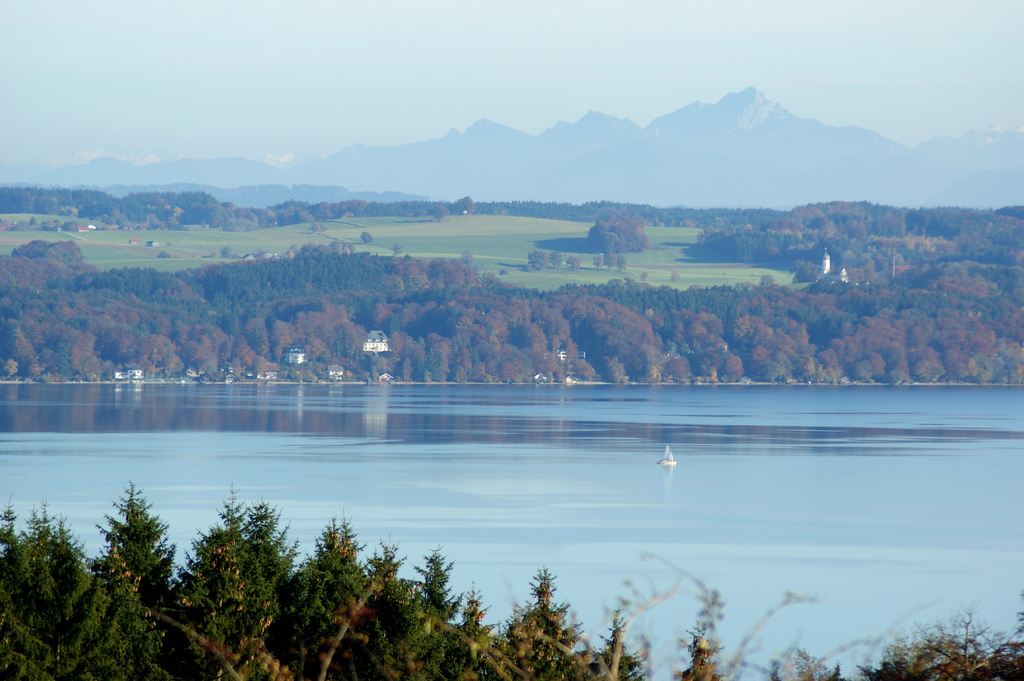Tree: (0, 490, 1023, 680), (0, 242, 1023, 388), (227, 301, 303, 408)
